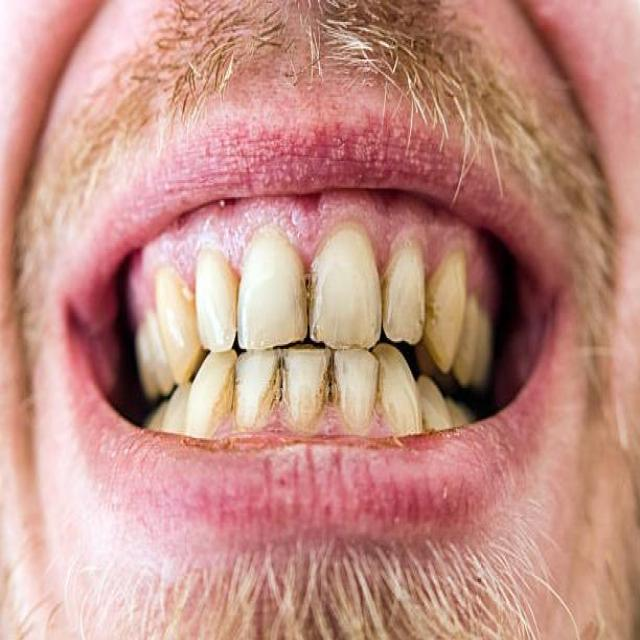calculus: (286, 268, 324, 336), (312, 362, 353, 424), (219, 362, 246, 432), (264, 356, 286, 419)
